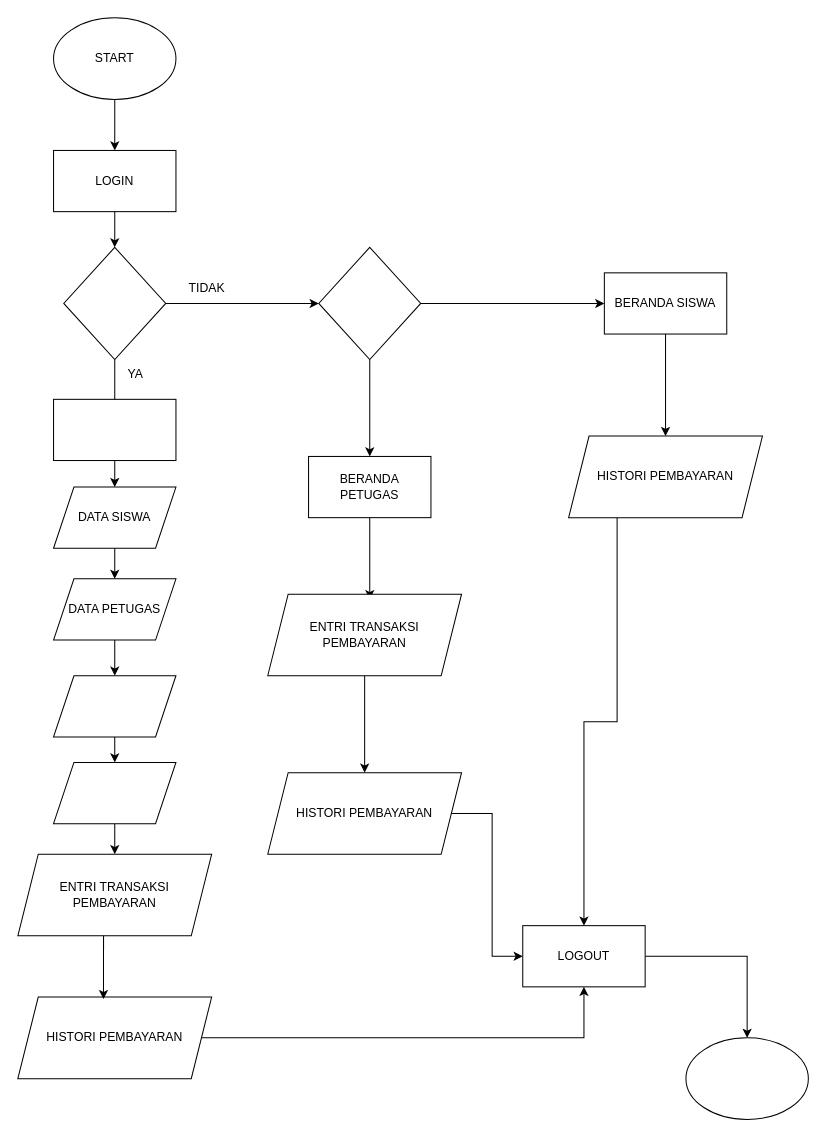
Some shapes in this 826 by 1137 pixel diagram are drawn without their labels. The box of each missing label's shape, as (x1, y1, x2, y2) in pixels:
ADMIN: (63, 246, 166, 360)
BERANDA ADMIN: (53, 398, 176, 461)
DATA KELAS: (53, 675, 176, 737)
DATA SPP: (53, 761, 176, 824)
END: (685, 1037, 808, 1119)
PETUGAS: (318, 246, 421, 360)
